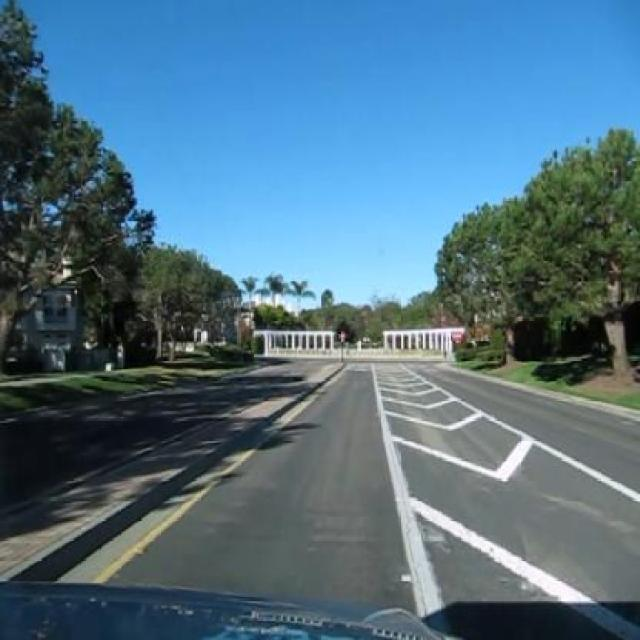stop: (452, 329, 462, 342), (338, 331, 345, 340)
